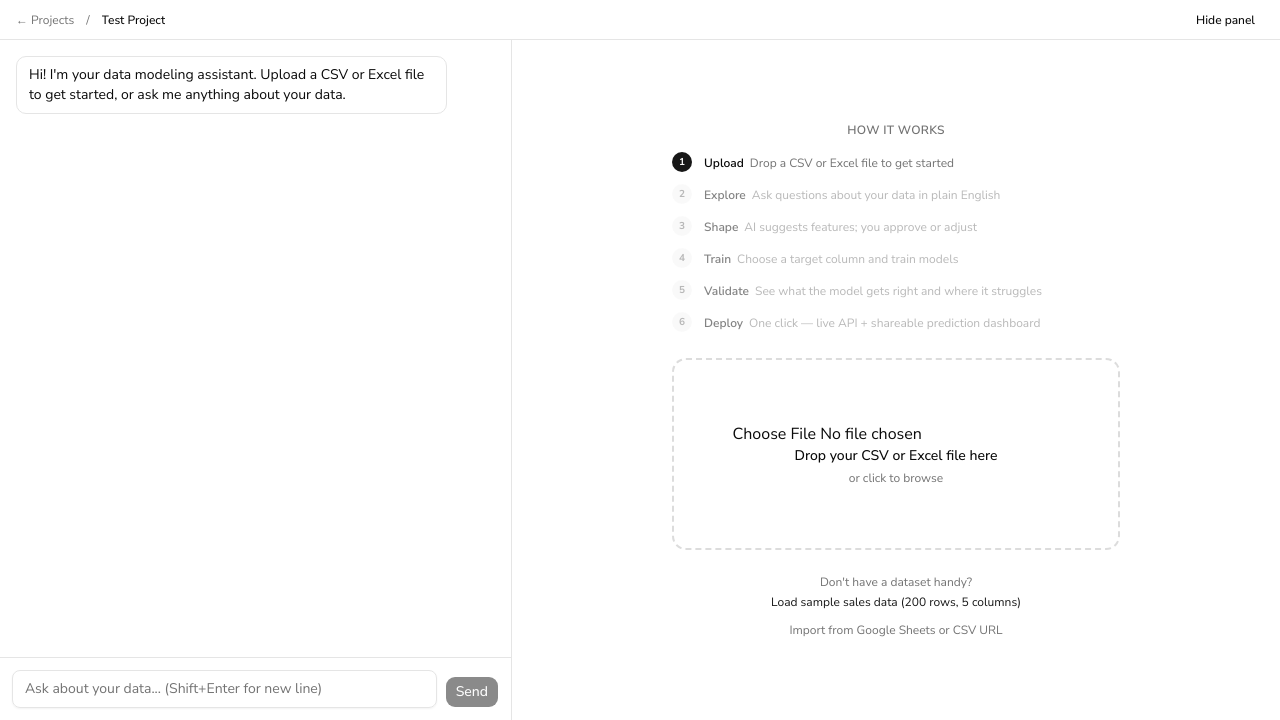
Test: ProjectWorkspace — navigation and UI controls › toggles right panel with Hide/Show button
Click the button "Hide panel" at (1226, 20), box [1187,6,1264,34]
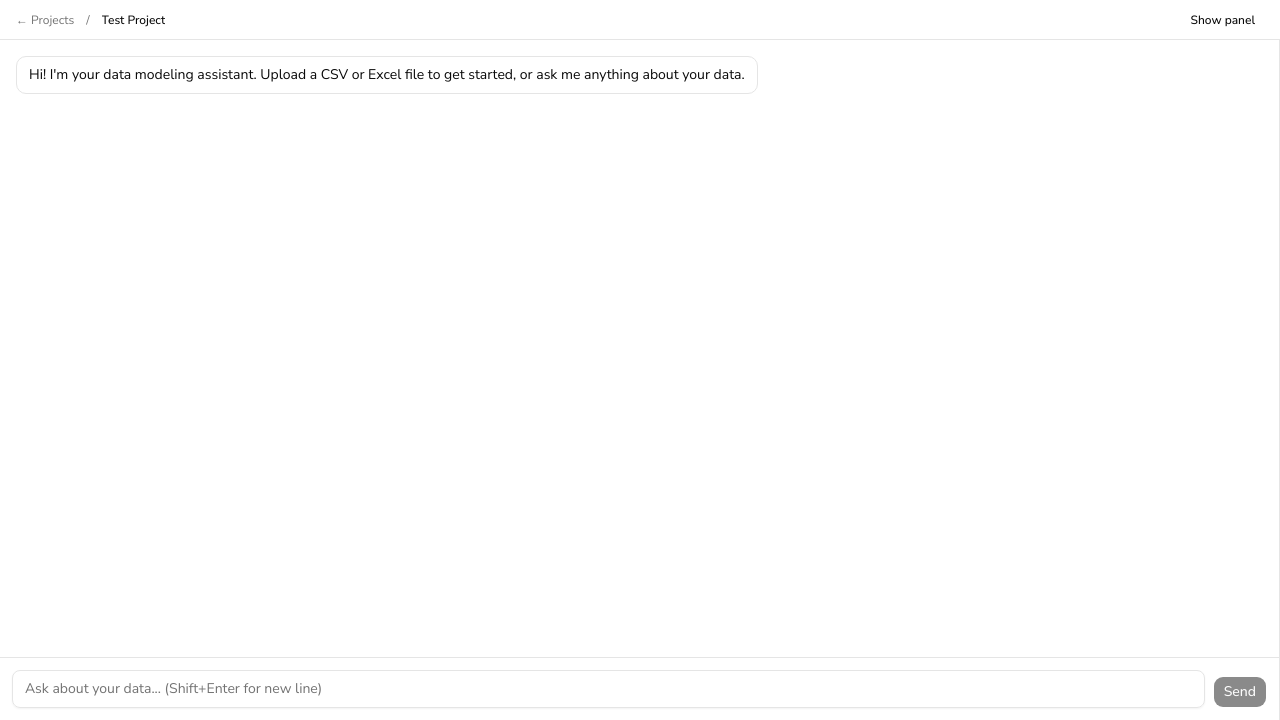
Check: the button "Show panel" is shown, box [1182,6,1264,34]
